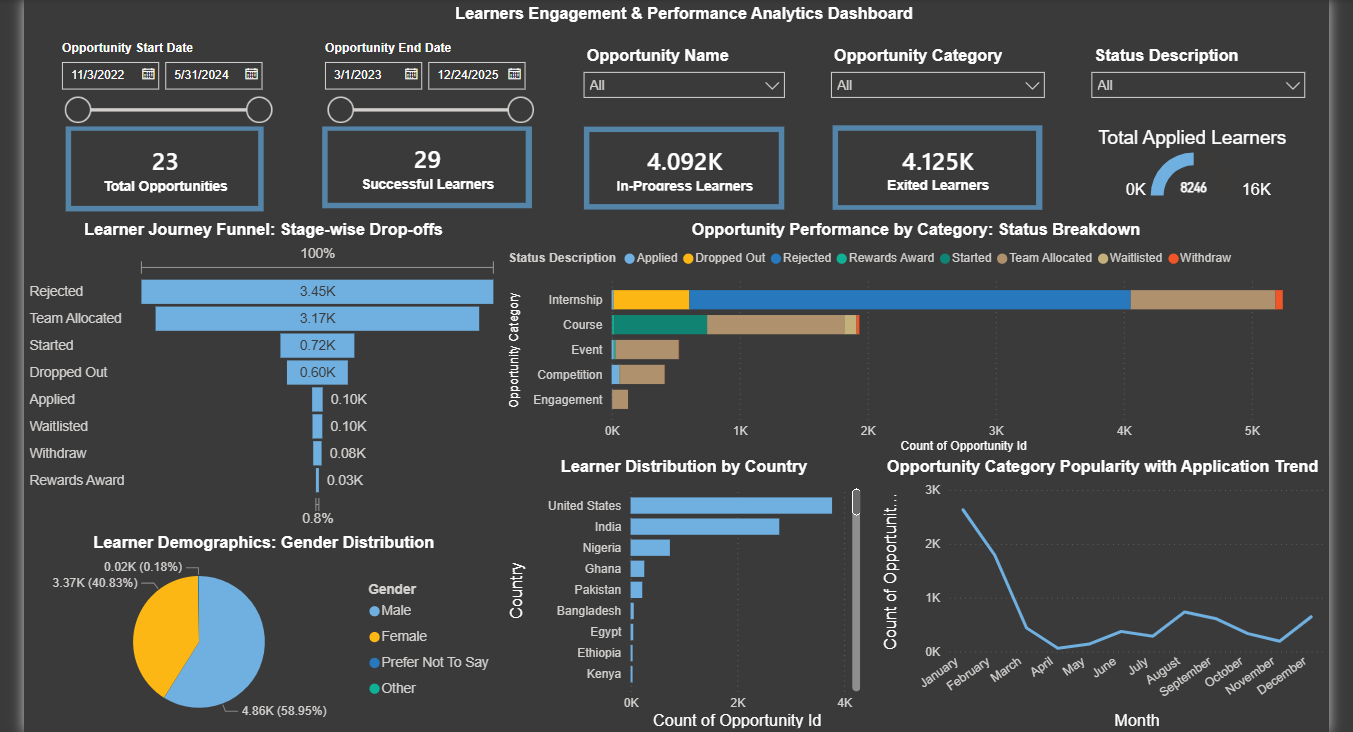

What the dashboard file says about the page in this screenshot:
{"tool":"powerbi","page":{"name":"Page 1","canvas":[1280,720],"ordinal":0},"visuals":[{"type":"gauge","fields":{"Y":["Cleaned_SLU_Opportunity_Wise_Dataset.Total Applications"]},"box":[1049,125.2,205.7,77.9],"z":0},{"type":"cardVisual","fields":{"Data":["Cleaned_SLU_Opportunity_Wise_Dataset.Success Count"]},"box":[292.6,123.9,205.7,81.8],"z":1000},{"type":"cardVisual","fields":{"Data":["Cleaned_SLU_Opportunity_Wise_Dataset.Total Opportunities"]},"box":[40.9,123.9,194.2,84.3],"z":2000},{"type":"funnel","title":"Learner Journey Funnel: Stage-wise Drop-offs","fields":{"Category":["Cleaned_SLU_Opportunity_Wise_Dataset.Status Description"],"Y":["Cleaned_SLU_Opportunity_Wise_Dataset.Opportunity Id"]},"box":[0,217.2,470.2,306.6],"z":3000},{"type":"pieChart","title":"Learner Demographics: Gender Distribution","fields":{"Category":["Cleaned_SLU_Opportunity_Wise_Dataset.Gender"],"Y":["Cleaned_SLU_Opportunity_Wise_Dataset.First Name"]},"box":[0,524.2,470.7,195.6],"z":4000},{"type":"lineChart","title":"Opportunity Category Popularity with Application Trend","fields":{"Category":["Cleaned_SLU_Opportunity_Wise_Dataset.Apply Date.Variation.Date Hierarchy.Month"],"Y":["Cleaned_SLU_Opportunity_Wise_Dataset.Opportunity Category"]},"box":[836.9,449.7,443.3,270.9],"z":5000},{"type":"barChart","title":"Learner Distribution by Country","fields":{"Category":["Cleaned_SLU_Opportunity_Wise_Dataset.Country"],"Y":["Cleaned_SLU_Opportunity_Wise_Dataset.Opportunity Id"]},"box":[470.2,449.7,355.2,270.9],"z":6000},{"type":"barChart","title":"Opportunity Performance by Category: Status Breakdown","fields":{"Category":["Cleaned_SLU_Opportunity_Wise_Dataset.Opportunity Category"],"Y":["Cleaned_SLU_Opportunity_Wise_Dataset.Opportunity Id"],"Series":["Cleaned_SLU_Opportunity_Wise_Dataset.Status Description"]},"box":[470.2,217.2,810,232.5],"z":7000},{"type":"slicer","fields":{"Values":["Cleaned_SLU_Opportunity_Wise_Dataset.Opportunity Start Date"]},"box":[24.3,35.8,227.4,89.4],"z":8000},{"type":"slicer","fields":{"Values":["Cleaned_SLU_Opportunity_Wise_Dataset.Opportunity End Date"]},"box":[282.4,35.8,226.1,89.4],"z":9000},{"type":"slicer","fields":{"Values":["Cleaned_SLU_Opportunity_Wise_Dataset.Opportunity Name"]},"box":[539.2,40.9,217.2,84.3],"z":10000},{"type":"slicer","fields":{"Values":["Cleaned_SLU_Opportunity_Wise_Dataset.Opportunity Category"]},"box":[781.9,40.9,230,84.3],"z":11000},{"type":"cardVisual","fields":{"Data":["Cleaned_SLU_Opportunity_Wise_Dataset.In-Progress Learners"]},"box":[549.4,123.9,207,84.3],"z":12000},{"type":"cardVisual","fields":{"Data":["Cleaned_SLU_Opportunity_Wise_Dataset.Exited Learners"]},"box":[793.4,123.9,208.3,84.3],"z":13000},{"type":"textbox","box":[313,0,669.5,37.1],"z":14000},{"type":"slicer","fields":{"Values":["Cleaned_SLU_Opportunity_Wise_Dataset.Status Description"]},"box":[1037.5,40.9,230,84.3],"z":15000}]}

Visuals, with their boxes in screenshot pixels (x1, y1, x2, y2):
gauge - Cleaned_SLU_Opportunity_Wise_Dataset.Total Applications: pyautogui.locateOnScreen(1095, 140, 1302, 218)
cardVisual - Cleaned_SLU_Opportunity_Wise_Dataset.Success Count: pyautogui.locateOnScreen(336, 138, 542, 221)
cardVisual - Cleaned_SLU_Opportunity_Wise_Dataset.Total Opportunities: pyautogui.locateOnScreen(83, 138, 278, 223)
"Learner Journey Funnel: Stage-wise Drop-offs" funnel: pyautogui.locateOnScreen(42, 232, 514, 540)
"Learner Demographics: Gender Distribution" pieChart: pyautogui.locateOnScreen(42, 540, 515, 731)
"Opportunity Category Popularity with Application Trend" lineChart: pyautogui.locateOnScreen(882, 466, 1327, 731)
"Learner Distribution by Country" barChart: pyautogui.locateOnScreen(514, 466, 871, 731)
"Opportunity Performance by Category: Status Breakdown" barChart: pyautogui.locateOnScreen(514, 232, 1327, 466)
slicer - Cleaned_SLU_Opportunity_Wise_Dataset.Opportunity Start Date: pyautogui.locateOnScreen(67, 50, 295, 140)
slicer - Cleaned_SLU_Opportunity_Wise_Dataset.Opportunity End Date: pyautogui.locateOnScreen(326, 50, 553, 140)
slicer - Cleaned_SLU_Opportunity_Wise_Dataset.Opportunity Name: pyautogui.locateOnScreen(584, 55, 802, 140)
slicer - Cleaned_SLU_Opportunity_Wise_Dataset.Opportunity Category: pyautogui.locateOnScreen(827, 55, 1058, 140)
cardVisual - Cleaned_SLU_Opportunity_Wise_Dataset.In-Progress Learners: pyautogui.locateOnScreen(594, 138, 802, 223)
cardVisual - Cleaned_SLU_Opportunity_Wise_Dataset.Exited Learners: pyautogui.locateOnScreen(839, 138, 1048, 223)
textbox: pyautogui.locateOnScreen(356, 14, 1029, 51)
slicer - Cleaned_SLU_Opportunity_Wise_Dataset.Status Description: pyautogui.locateOnScreen(1084, 55, 1315, 140)
